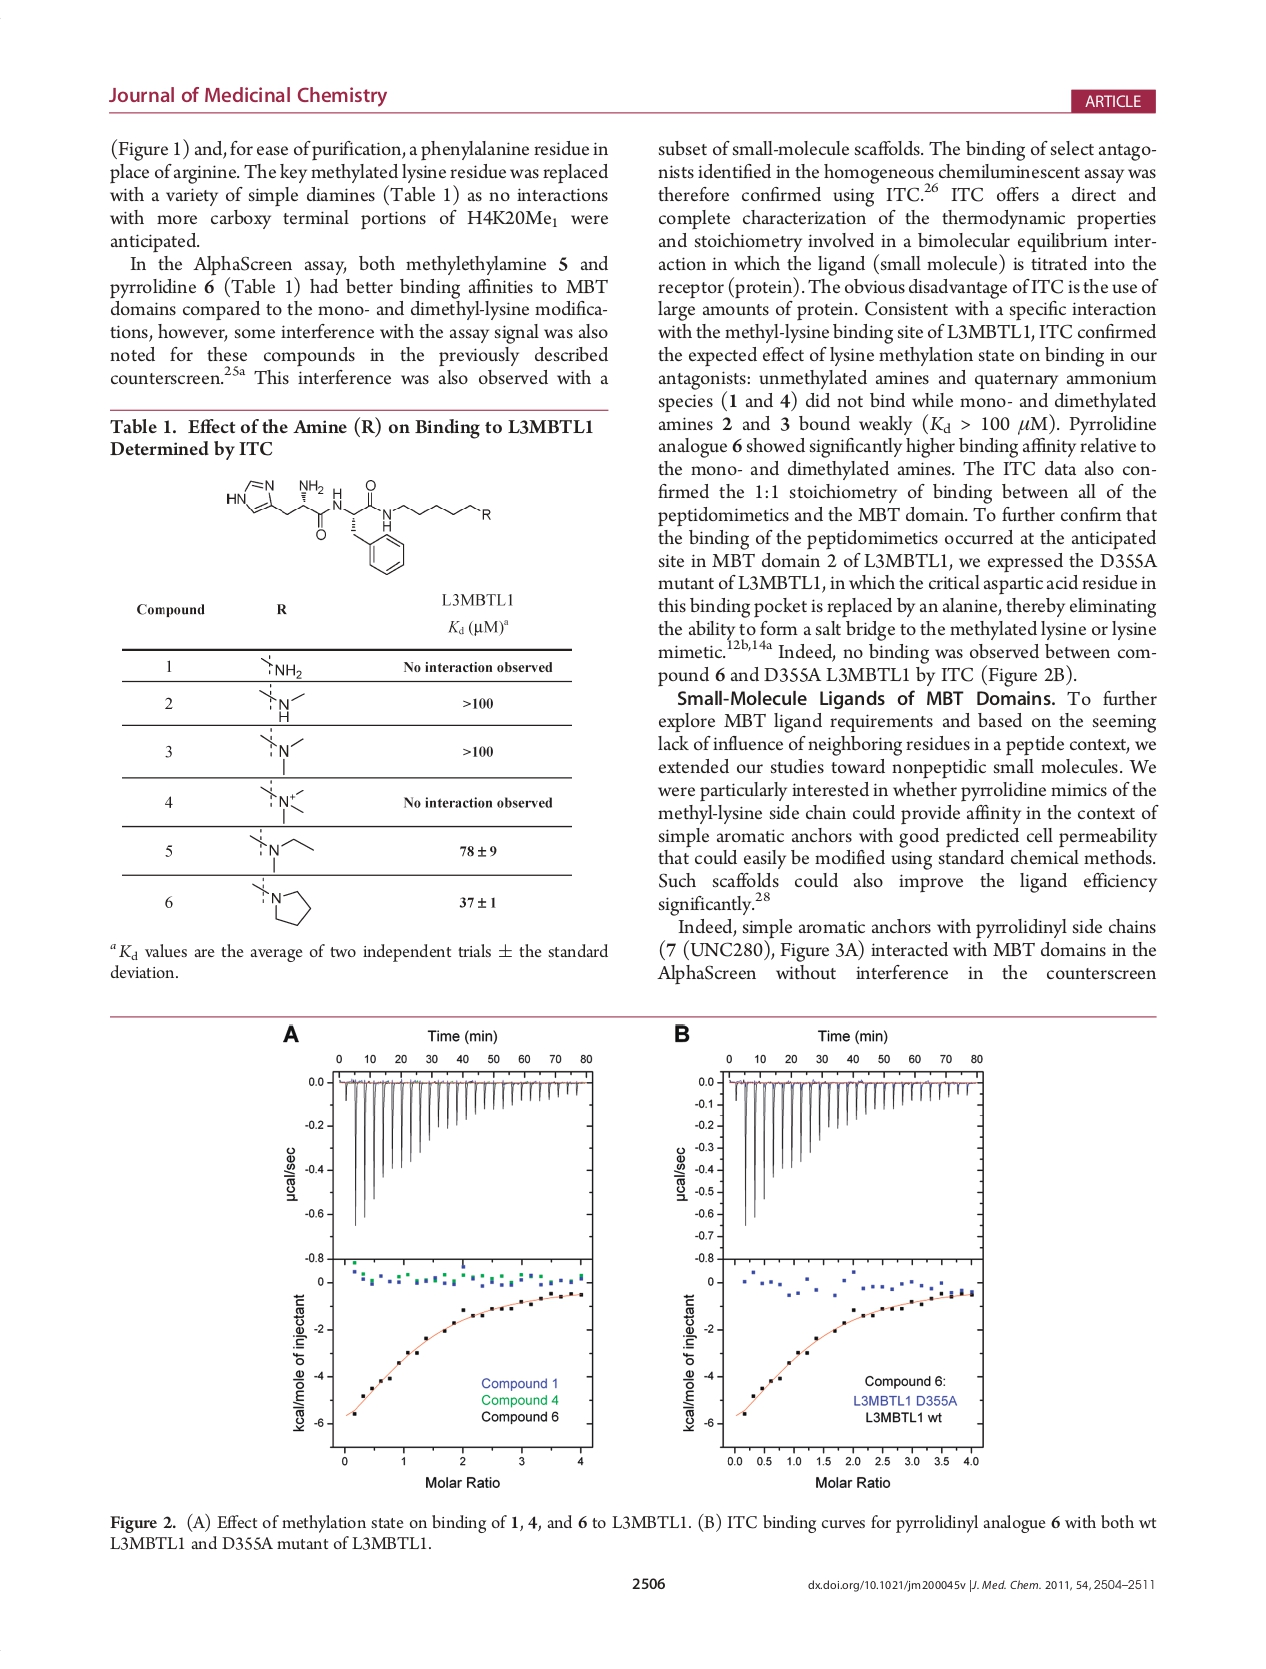exist_molecular: (219, 472, 495, 576), (247, 875, 313, 931), (246, 830, 316, 875), (254, 681, 309, 723), (257, 727, 303, 777), (261, 778, 306, 825), (255, 654, 307, 680)
